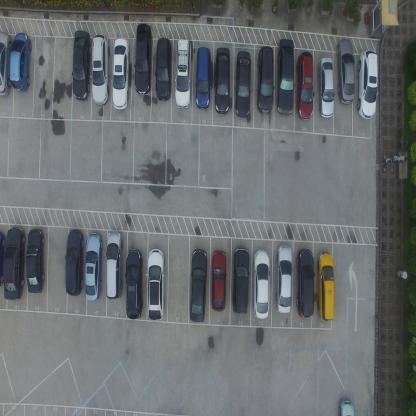car: (4, 225, 25, 301), (356, 49, 378, 120), (146, 247, 166, 322), (9, 31, 32, 94), (72, 31, 92, 102), (190, 246, 209, 320), (134, 23, 153, 97), (112, 37, 131, 111), (277, 36, 295, 114), (64, 228, 84, 297), (316, 250, 335, 322), (125, 248, 144, 319), (92, 35, 110, 108), (26, 229, 46, 294), (85, 231, 103, 302), (256, 44, 274, 114), (296, 248, 314, 318), (296, 50, 314, 119), (213, 45, 231, 113), (276, 242, 293, 314), (253, 247, 270, 318), (175, 38, 192, 109), (336, 38, 354, 105), (232, 244, 249, 314), (106, 229, 123, 299), (235, 50, 252, 118), (155, 38, 172, 103), (195, 46, 212, 110), (210, 249, 227, 311), (318, 57, 334, 119), (0, 30, 12, 98), (0, 231, 6, 287), (337, 397, 355, 415)
